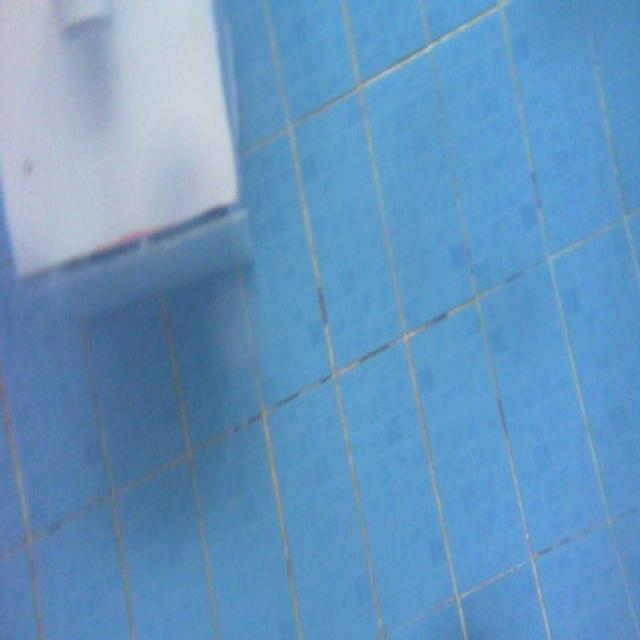Cube: (0, 0, 245, 288)
